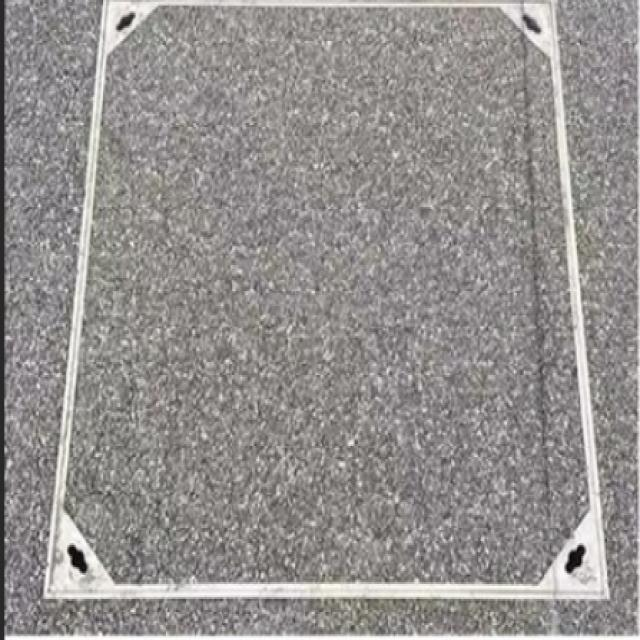manhole: (45, 0, 608, 600)
